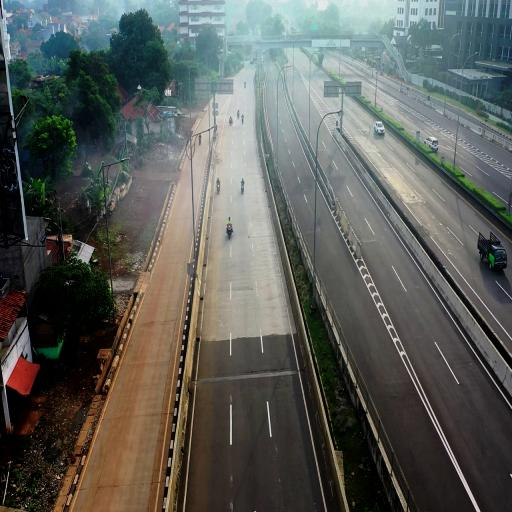vehicle: (372, 121, 384, 139)
